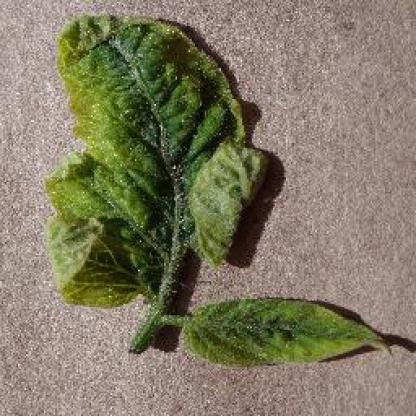bad leaf: (27, 12, 372, 388)
